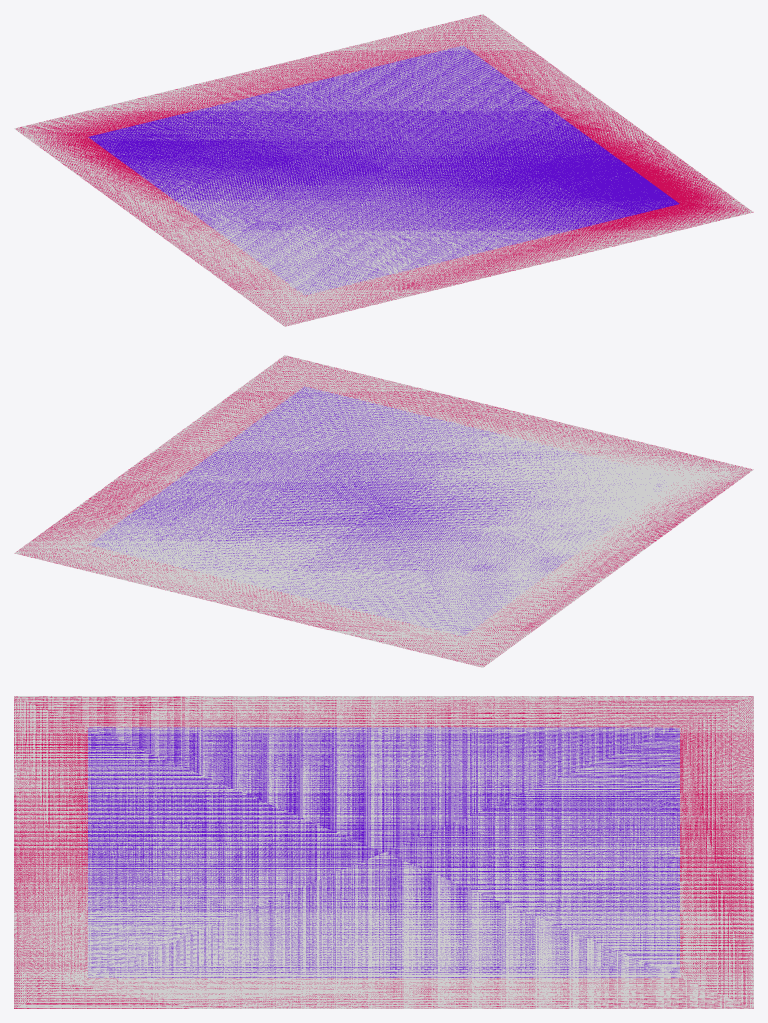
The model's file is bigsquare.glb.
3 renders of one model, top to bottom at view 1: azimuth 30°, elevation 25°; view 2: azimuth 150°, elevation 25°; view 3: azimuth 270°, elevation 25°, orthographic. The views are drawn at different scales.
Visible parts, largest first — view 1: mesh, physics; view 2: physics, mesh; view 3: physics, mesh.
Part boxes in pixels (x1,y1,x2,y2): mesh: (16,15,753,326); physics: (14,14,753,326); physics: (14,355,753,667); mesh: (15,356,751,666); physics: (14,696,753,1008); mesh: (14,696,753,1008).
Size of the model in its own units: 1 by 0 by 1.
